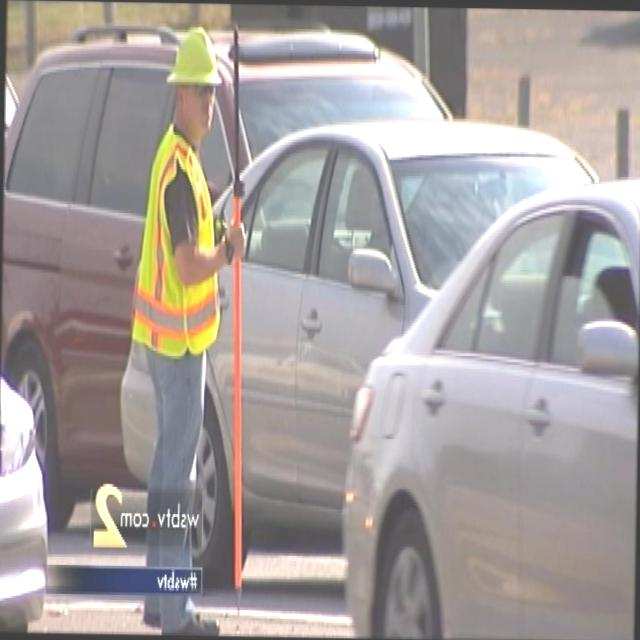helmet: (163, 22, 224, 98)
vest: (132, 143, 226, 363)
